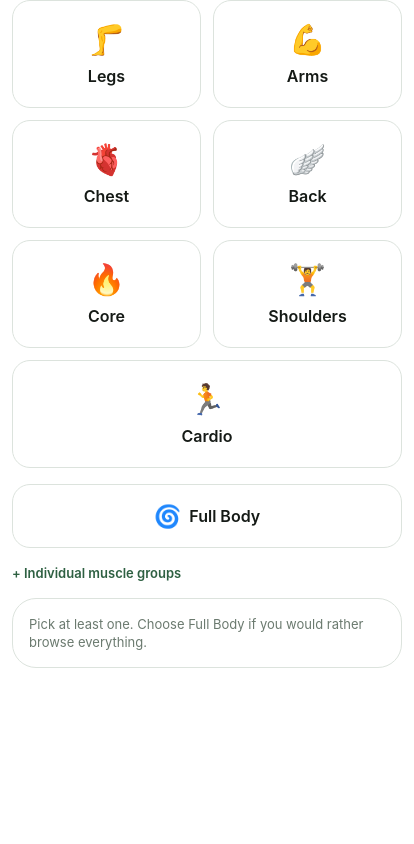
Test case: WorkoutTypePicker › combines two days and reads the combination back
What coordinates should you click on to do the following:
click the checkbox labelled "Chest"
I would click on:
 (106, 174)
Its box is [12,120,201,228].
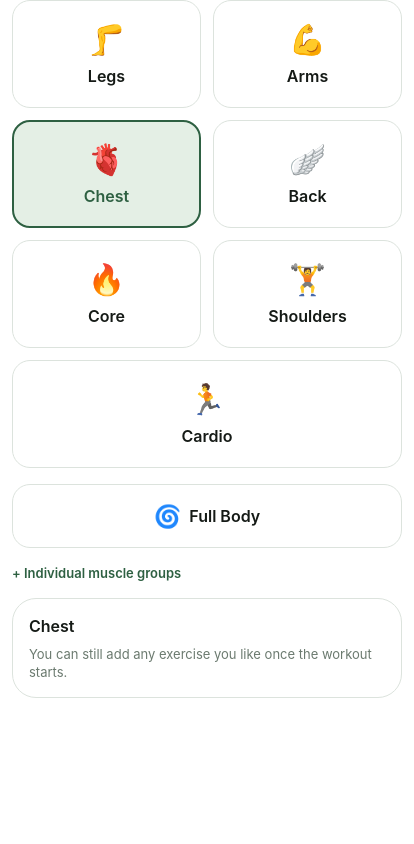
What coordinates should you click on to do the following:
click the checkbox labelled "Arms"
I would click on:
 (308, 54)
Its box is [213,0,402,108].
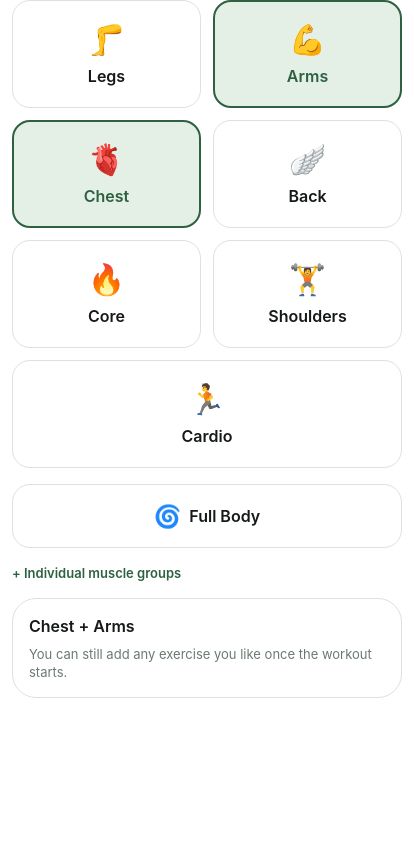
Result: the text "Chest + Arms" is shown at [29,616,135,636]
